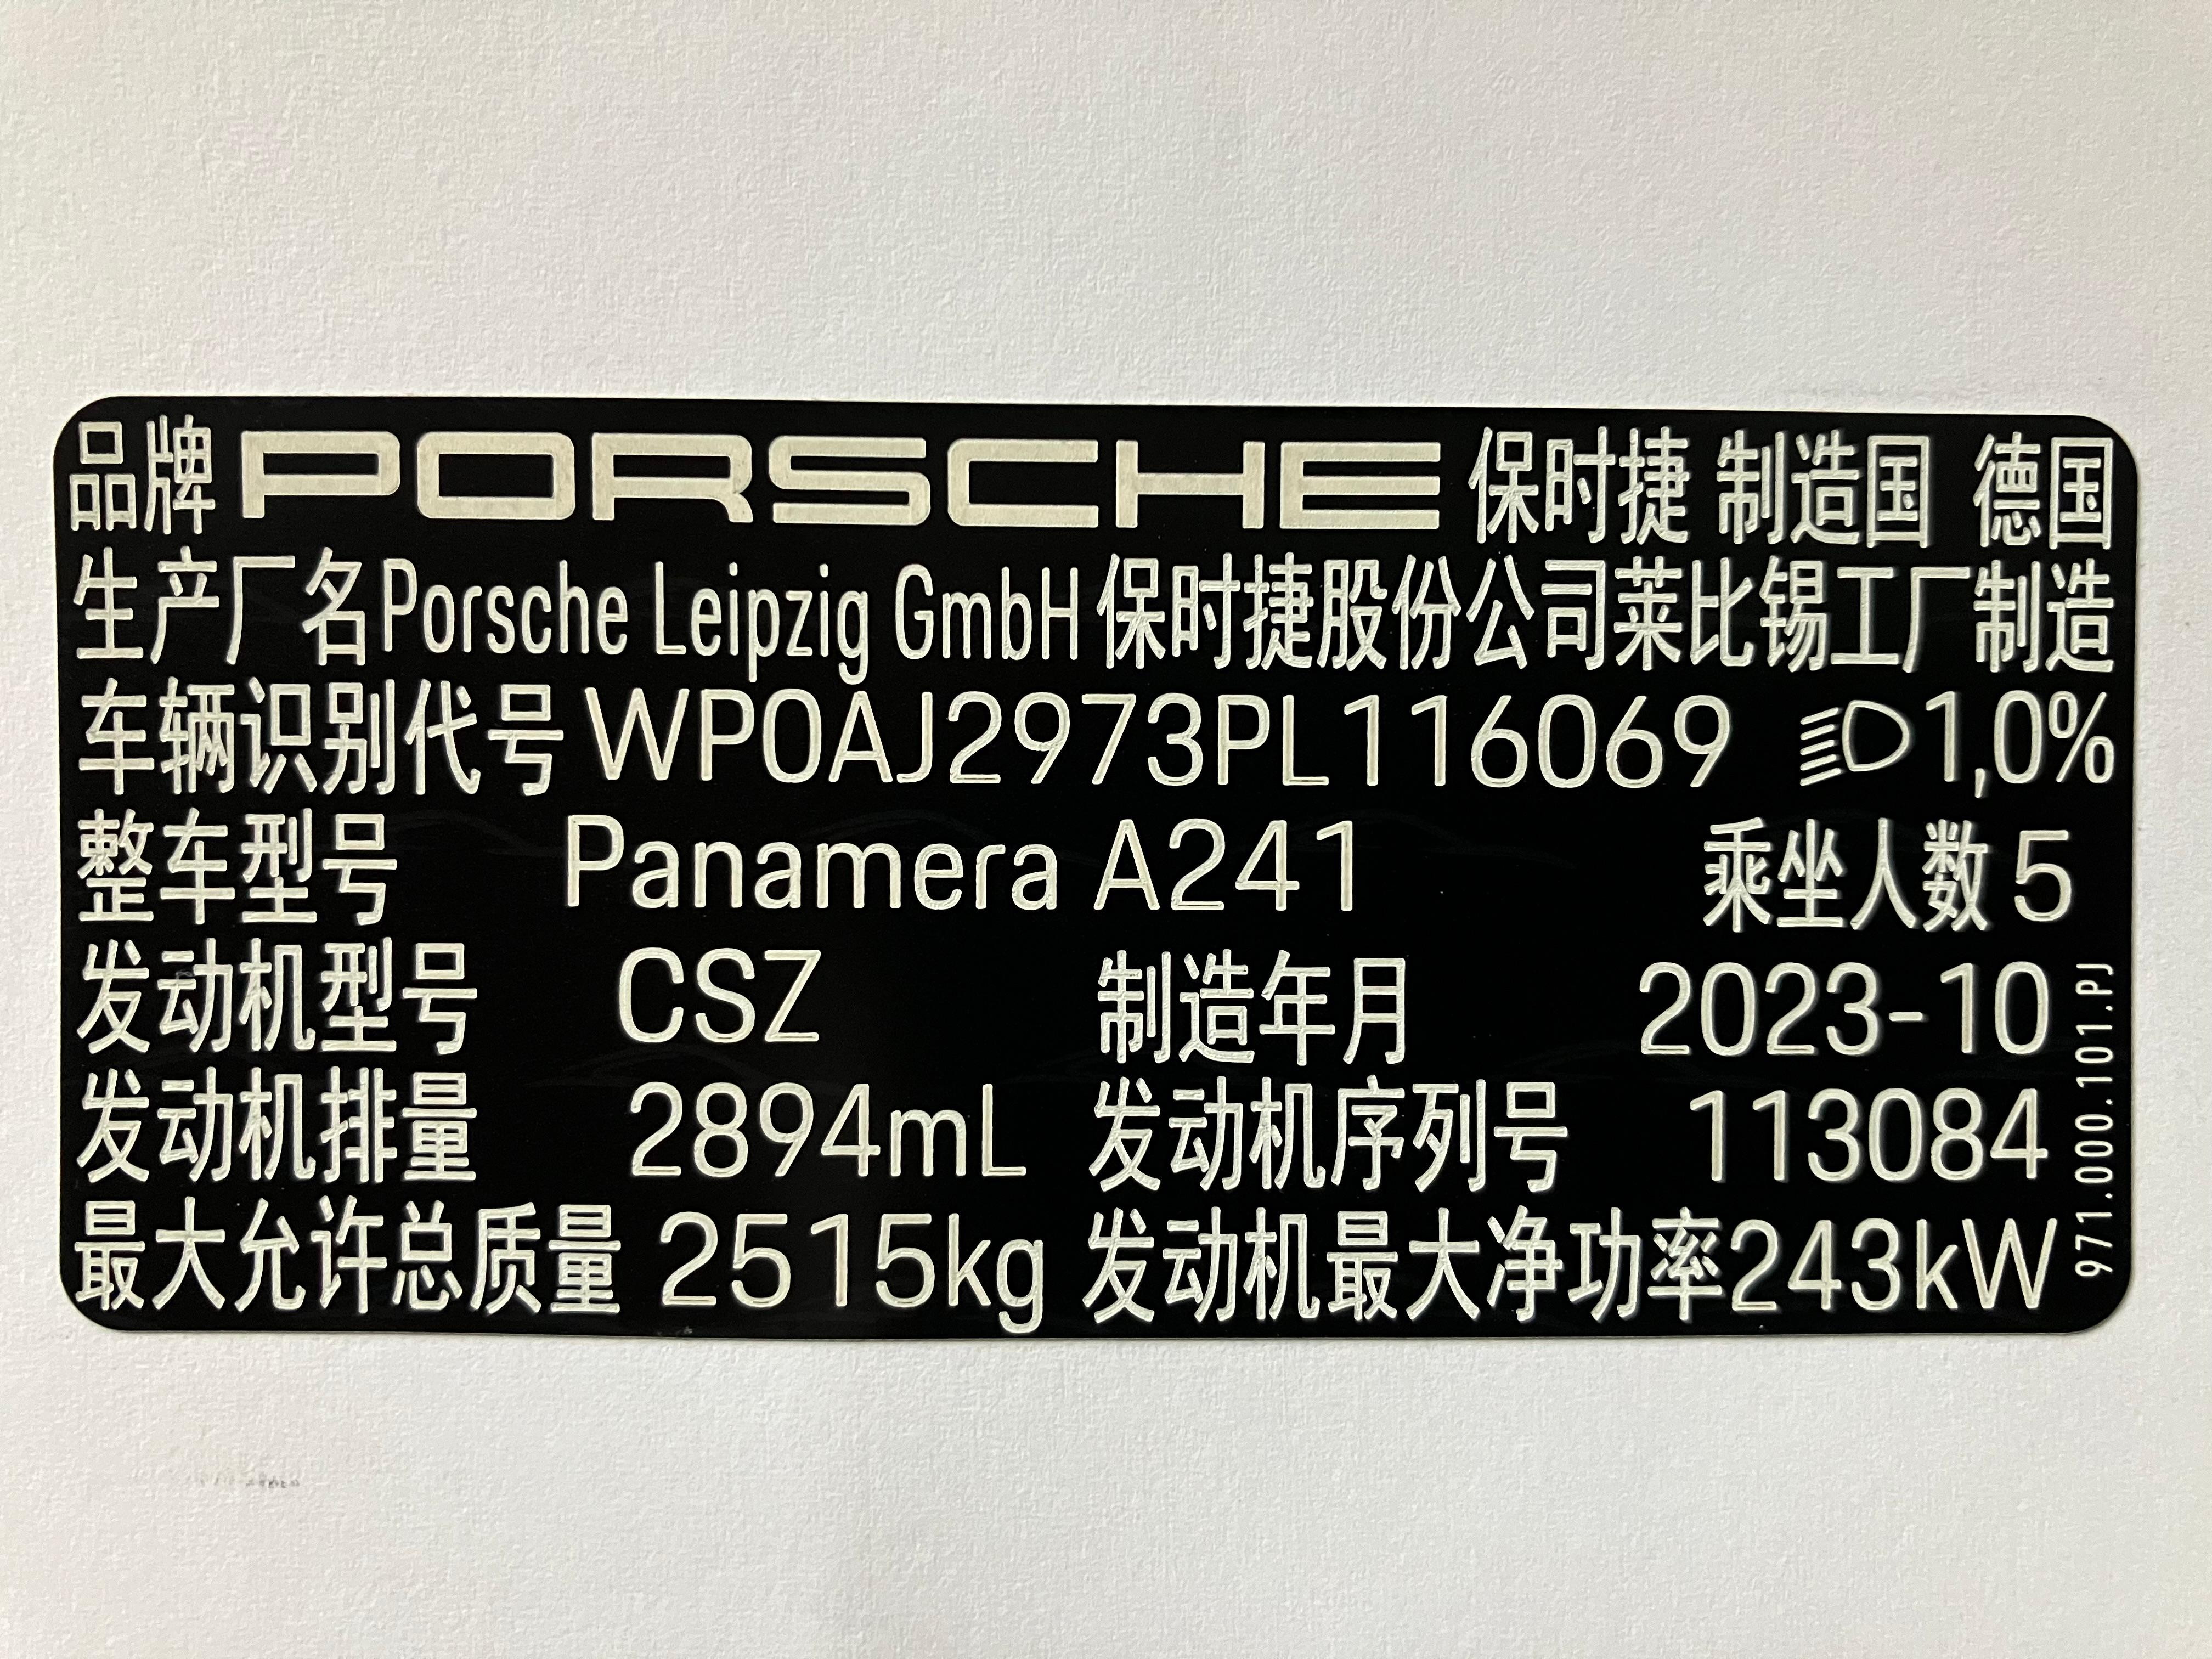Typlabel-China: (52, 396, 2137, 1337)
